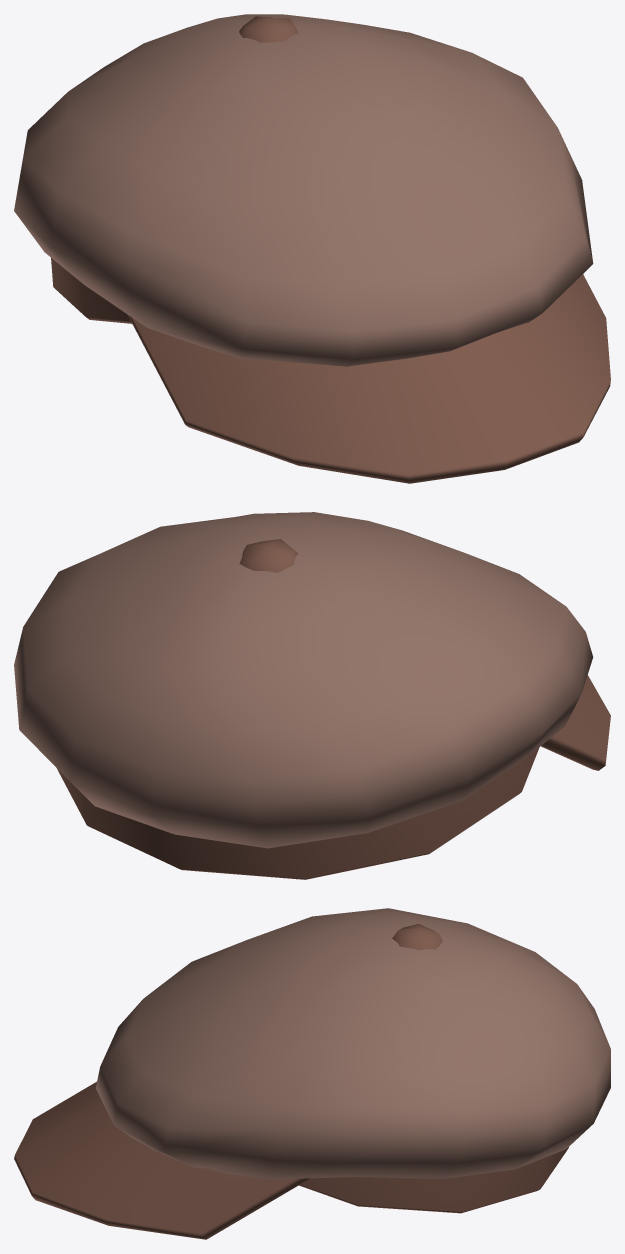
Rendered from Hat_069.glb.
3 renders of one model, top to bottom at view 1: azimuth 30°, elevation 25°; view 2: azimuth 150°, elevation 25°; view 3: azimuth 270°, elevation 25°, orthographic. The views are drawn at different scales.
Visible parts, largest first — view 1: Hat_069; view 2: Hat_069; view 3: Hat_069.
Part boxes in pixels (box(x1,y1,x2,y2)): Hat_069: box(14, 14, 610, 483); Hat_069: box(14, 512, 610, 879); Hat_069: box(14, 908, 610, 1239).
Size of the model in its own units: 0.5157 by 0.2787 by 0.6353.
1 material, 1 textured.
